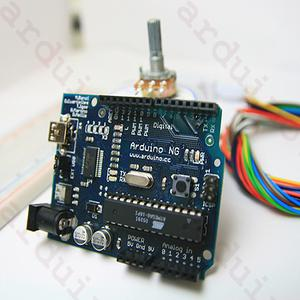duino: (16, 67, 239, 289)
